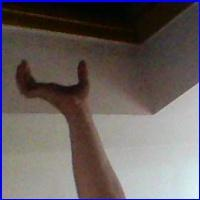space: (7, 54, 94, 109)
